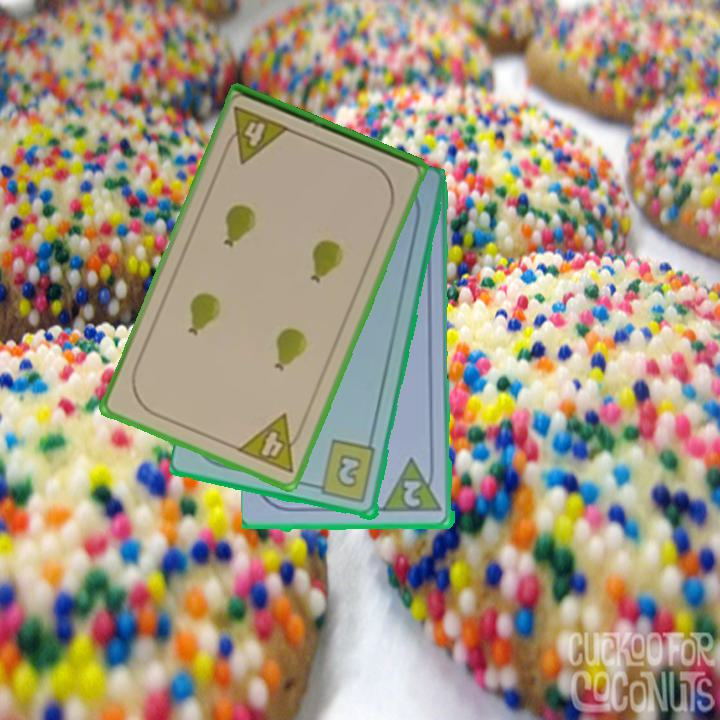2b: (309, 437, 379, 506)
2p: (381, 456, 446, 516)
4p: (233, 410, 309, 477), (219, 102, 293, 167)
